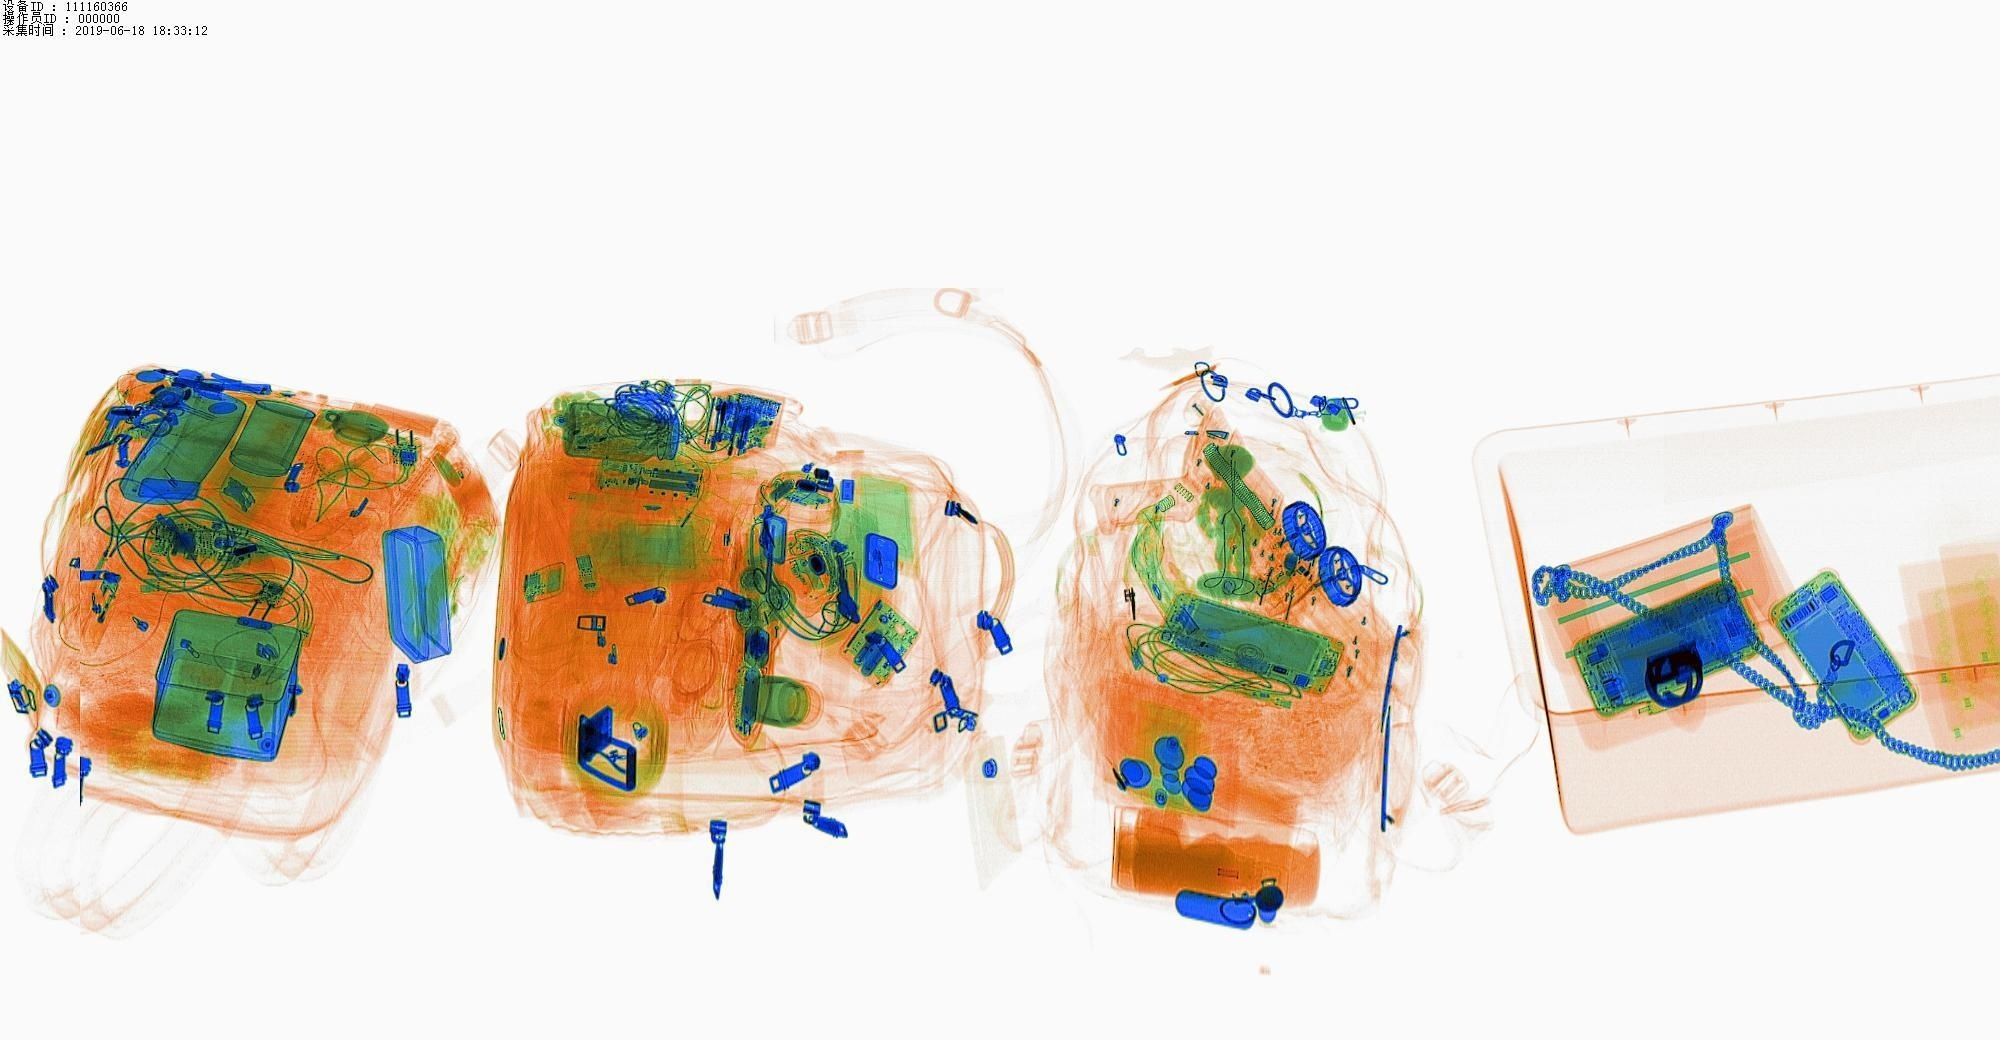NonmetallicFire: (74, 550, 132, 672)
